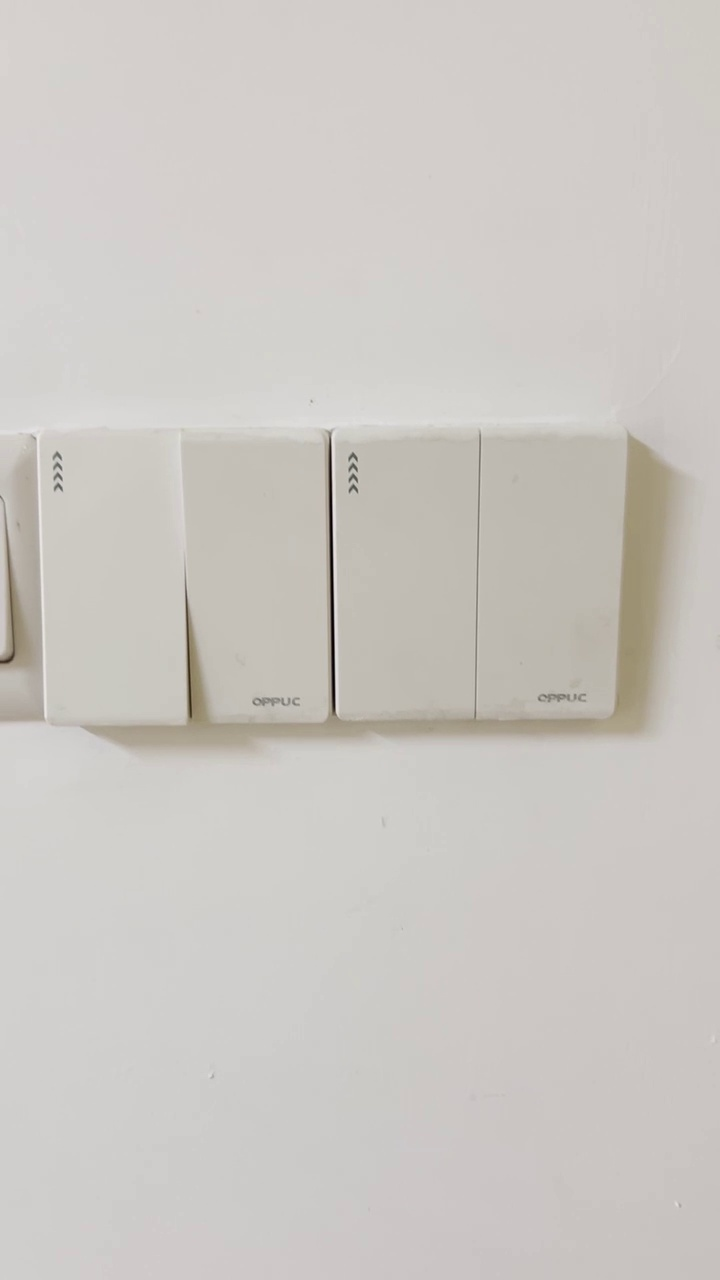button1: (36, 433, 185, 722), (184, 436, 331, 723), (482, 430, 617, 718), (337, 436, 472, 718)
